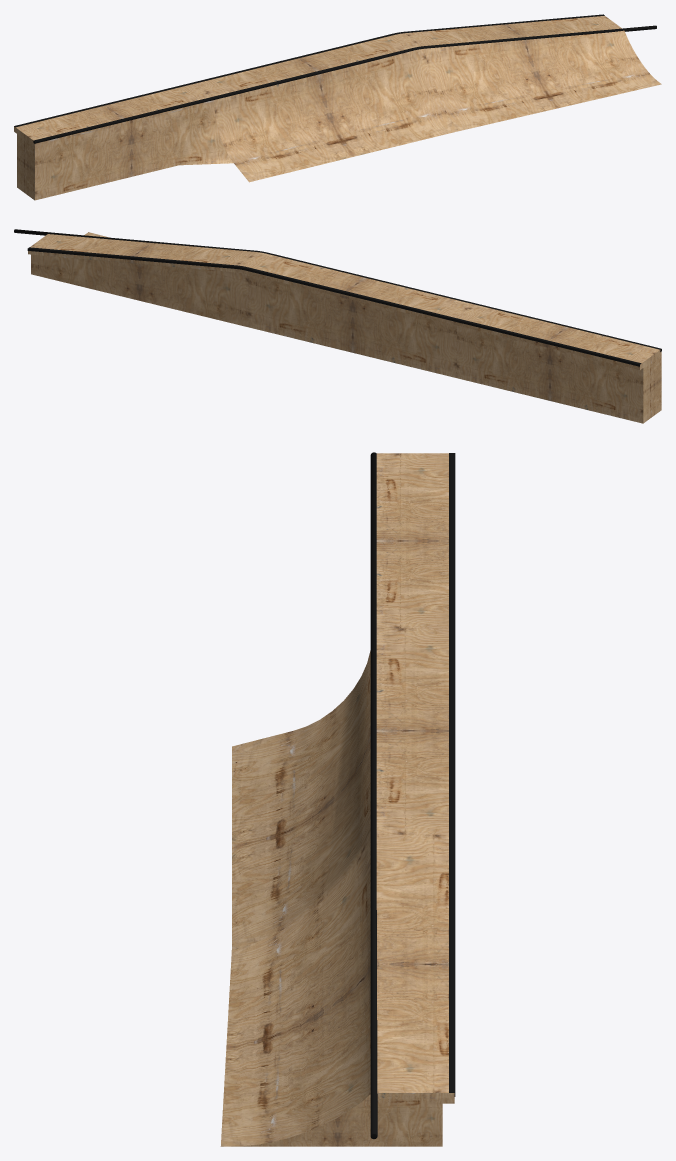
The model's file is boxD.fbx.
The picture shows the model from 3 angles, top to bottom: view 1: azimuth 30°, elevation 25°; view 2: azimuth 150°, elevation 25°; view 3: azimuth 270°, elevation 25°; orthographic projection. The views are drawn at different scales.
Visible parts, largest first — view 1: boxD, boxDcoping, boxDcantoneira; view 2: boxD, boxDcantoneira, boxDcoping; view 3: boxD, boxDcoping, boxDcantoneira.
Boxes of the visible parts, x1,y1,x2,y2 form: boxD: (14,16,661,200); boxDcoping: (33,25,656,143); boxDcantoneira: (14,14,604,127); boxD: (28,232,661,423); boxDcantoneira: (27,247,641,366); boxDcoping: (14,229,661,351); boxD: (220,453,454,1146); boxDcoping: (370,452,377,1139); boxDcantoneira: (449,453,455,1096).
Size of the model in its own units: 1214 by 111 by 198.
